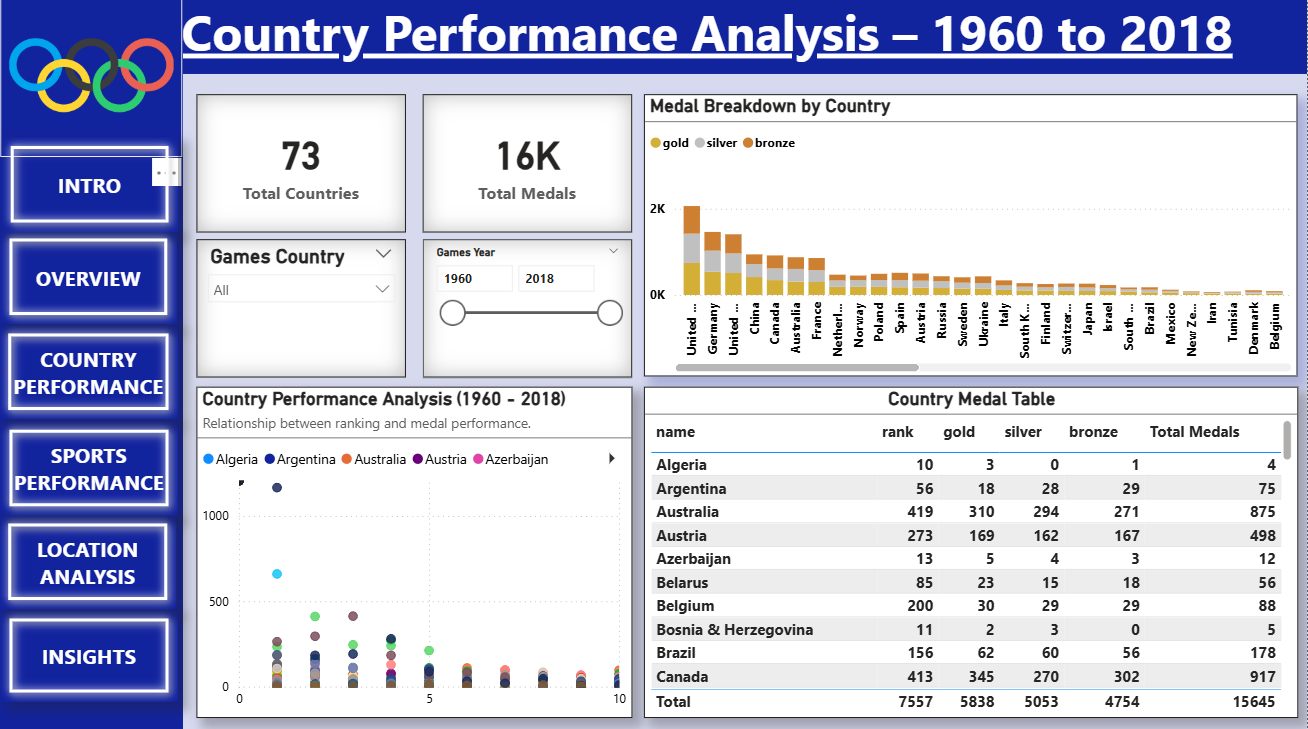

The page's visual inventory and layout, read from the dashboard file:
{"tool":"powerbi","page":{"name":"Country Performance ","canvas":[1280,720],"ordinal":3},"visuals":[{"type":"textbox","box":[0,0,1280.3,79.5],"z":0},{"type":"textbox","box":[0,0,179.8,720.2],"z":1000},{"type":"columnChart","title":"Medal Breakdown by Country","fields":{"Category":["Sheet1.npc_name"],"Y":["Sum(Sheet1.npc_gold)","Sum(Sheet1.npc_silver)","Sum(Sheet1.npc_bronze)"]},"box":[631,99,639.5,276.4],"z":2000},{"type":"scatterChart","fields":{"Y":["Sheet1.Total Medals"],"Series":["Sheet1.npc_name"],"X":["Sheet1.npc_rank"]},"box":[193.2,385.2,426.8,324.1],"z":3000},{"type":"tableEx","title":"Country Medal Table","fields":{"Values":["Sheet1.npc_name","Sum(Sheet1.npc_rank)","Sum(Sheet1.npc_gold)","Sum(Sheet1.npc_silver)","Sum(Sheet1.npc_bronze)","Sheet1.Total Medals"]},"box":[631.2,385,640,323.8],"z":4000},{"type":"card","fields":{"Values":["Sheet1.Total Countries"]},"box":[193.8,98.8,205,135],"z":5000},{"type":"card","fields":{"Values":["Sheet1.Total Medals"]},"box":[415,98.8,205,135],"z":6000},{"type":"slicer","fields":{"Values":["Sheet1.games_country"]},"box":[193.8,241.2,205,135],"z":7000},{"type":"slicer","fields":{"Values":["Sheet1.games_year"]},"box":[415,241.2,205,135],"z":8000},{"type":"image","box":[1.4,0,178.4,160.5],"z":9000},{"type":"actionButton","box":[2.4,140.6,172.4,92.9],"z":10000},{"type":"actionButton","box":[1.2,231.1,172.4,92.9],"z":11000},{"type":"actionButton","box":[0,324.1,174.9,92.9],"z":12000},{"type":"actionButton","box":[1.2,418.2,173.6,92.9],"z":13000},{"type":"actionButton","box":[0,509.9,173.6,92.9],"z":14000},{"type":"actionButton","box":[1.2,602.9,173.6,90.5],"z":15000}]}

Visuals, with their boxes in screenshot pixels (x1, y1, x2, y2), scaled from the page's 1280x720 canvas onto the 1308x729 screenshot:
textbox: detection(0, 0, 1307, 80)
textbox: detection(0, 0, 184, 728)
"Medal Breakdown by Country" columnChart: detection(645, 100, 1298, 380)
scatterChart - Sheet1.Total Medals x Sheet1.npc_name: detection(197, 390, 634, 718)
"Country Medal Table" tableEx: detection(645, 390, 1299, 718)
card - Sheet1.Total Countries: detection(198, 100, 408, 237)
card - Sheet1.Total Medals: detection(424, 100, 634, 237)
slicer - Sheet1.games_country: detection(198, 244, 408, 381)
slicer - Sheet1.games_year: detection(424, 244, 634, 381)
image: detection(1, 0, 184, 163)
actionButton: detection(2, 142, 179, 236)
actionButton: detection(1, 234, 177, 328)
actionButton: detection(0, 328, 179, 422)
actionButton: detection(1, 423, 179, 517)
actionButton: detection(0, 516, 177, 610)
actionButton: detection(1, 610, 179, 702)
